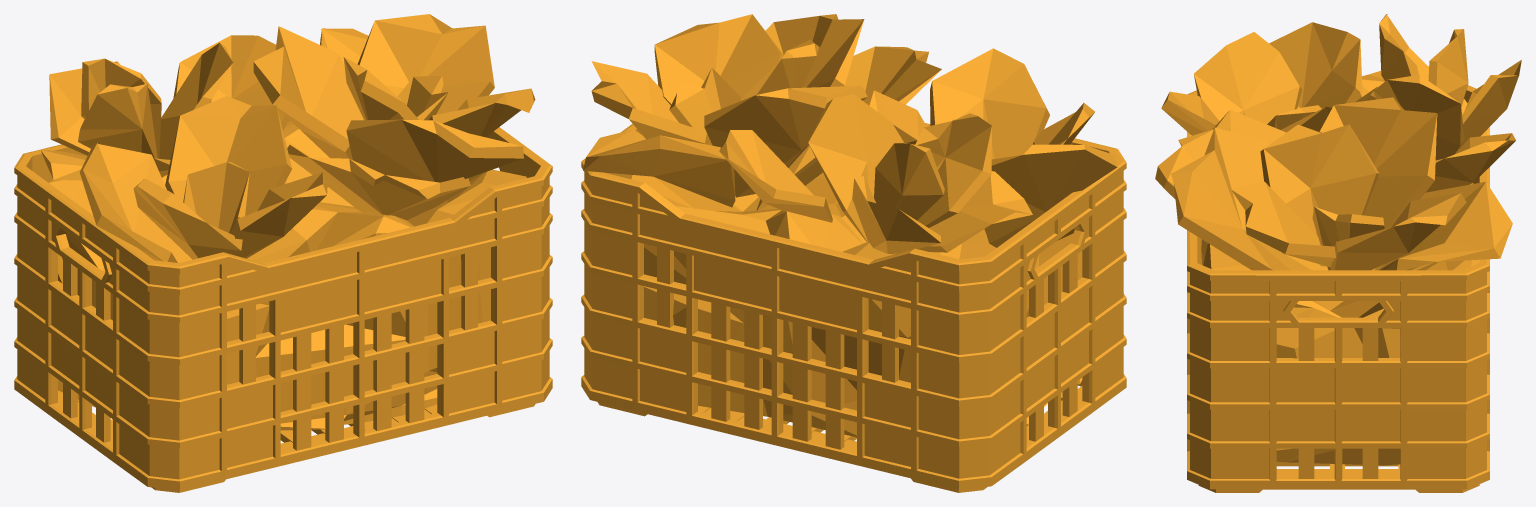
Rendered from SM_Crate_Plastic_Big_Salad.fbx.
The picture shows the model from 3 angles, left to right: view 1: azimuth 30°, elevation 25°; view 2: azimuth 150°, elevation 25°; view 3: azimuth 270°, elevation 25°; orthographic projection. The views are drawn at different scales.
Visible parts, largest first — view 1: crate-plastic-big-salad; view 2: crate-plastic-big-salad; view 3: crate-plastic-big-salad.
Boxes of the visible parts, x1,y1,x2,y2 form: crate-plastic-big-salad: (14,14,552,492); crate-plastic-big-salad: (581,14,1126,492); crate-plastic-big-salad: (1155,14,1521,492).
Size of the model in its own units: 0.6814 by 0.4729 by 0.4936.
